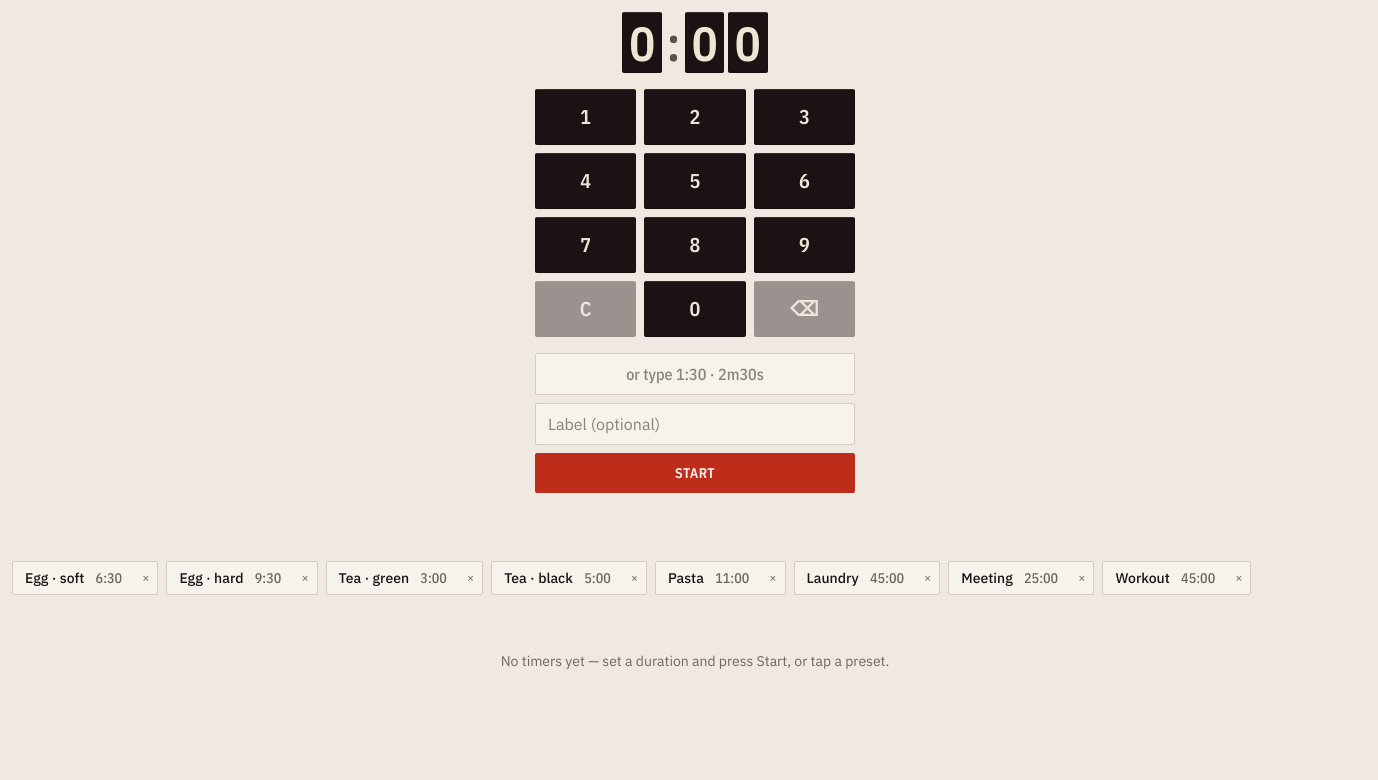
it: CountdownView › shifts digits in from the right, and shows what they mean
Click the button "5". click: (695, 181)
box: x1=644 y1=153 x2=746 y2=209
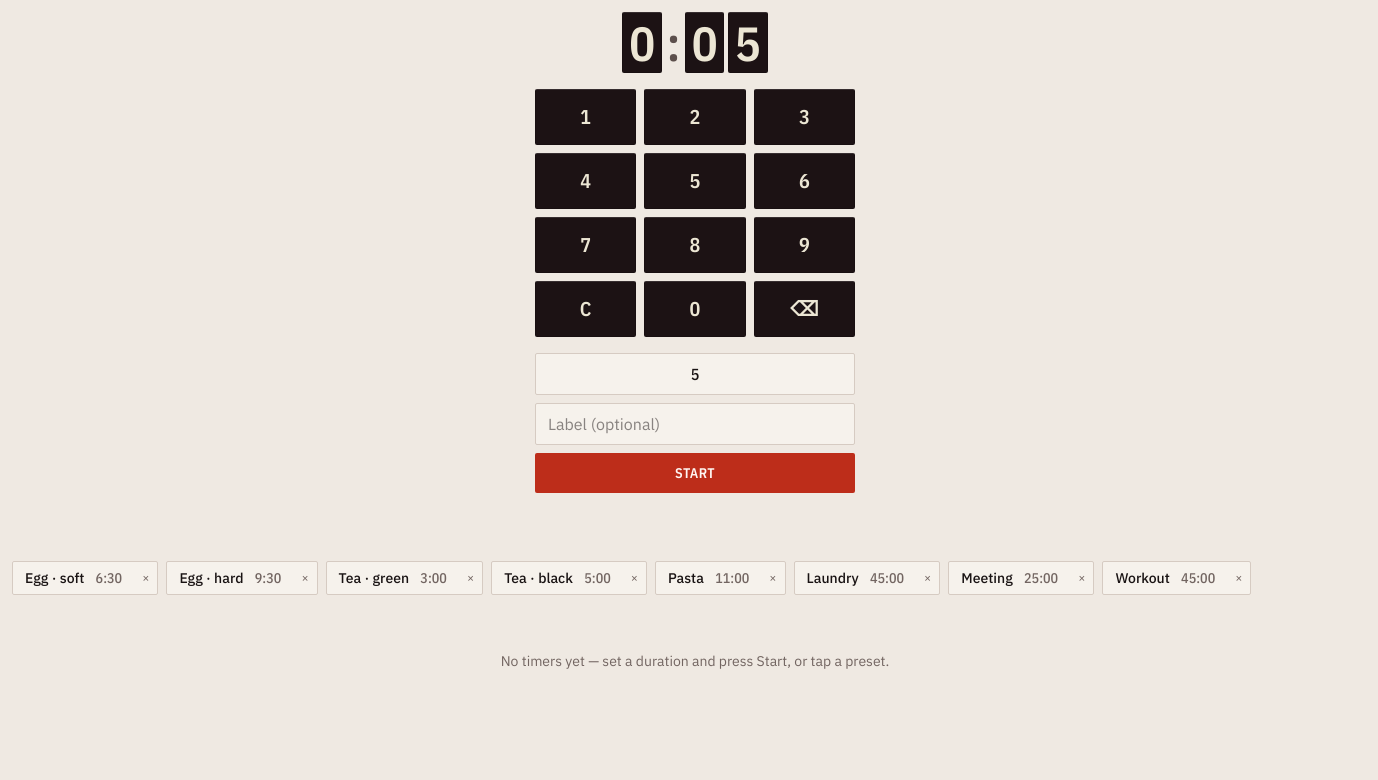
Now the field named "Duration" holds "5", box x1=535 y1=353 x2=855 y2=395
Click the button "2". click: (695, 117)
box: x1=644 y1=89 x2=746 y2=145
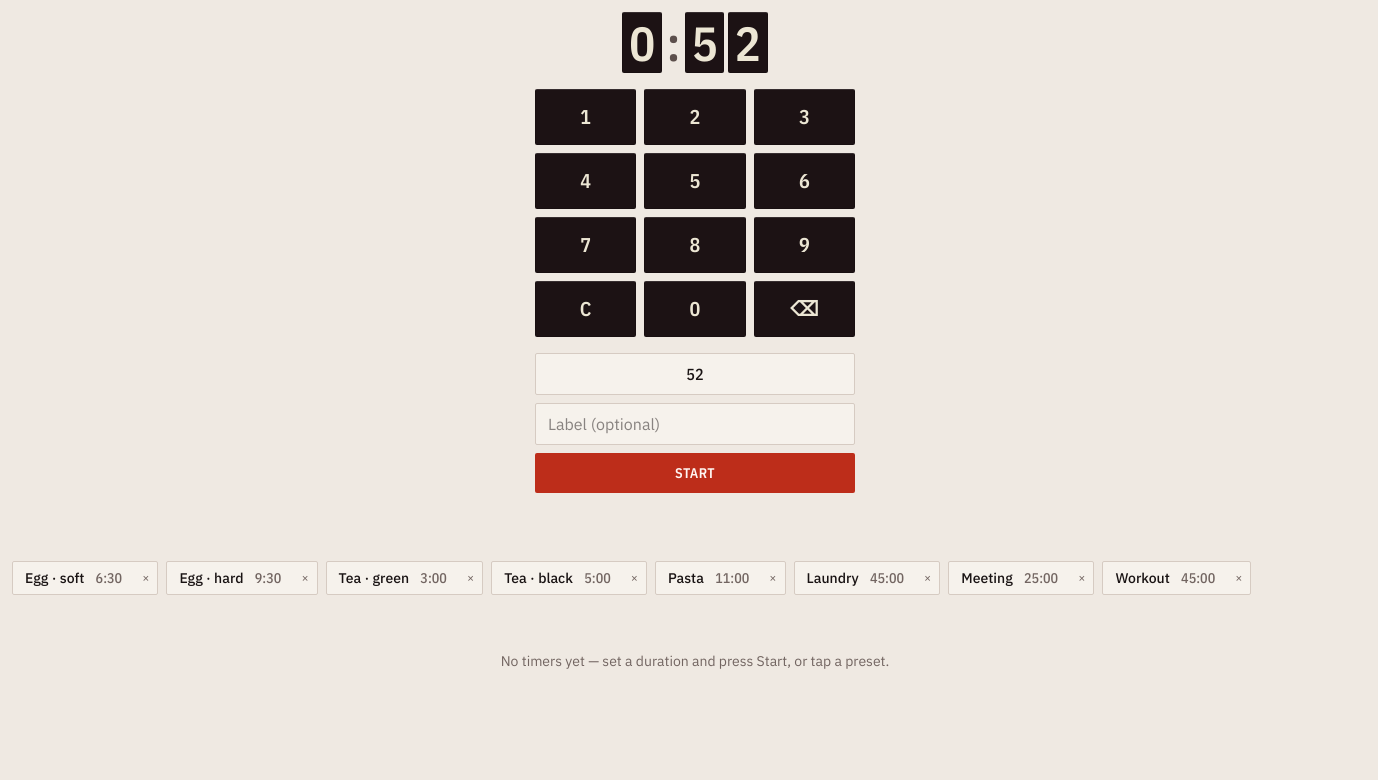
Click the button "3". click: (804, 117)
box: x1=754 y1=89 x2=855 y2=145
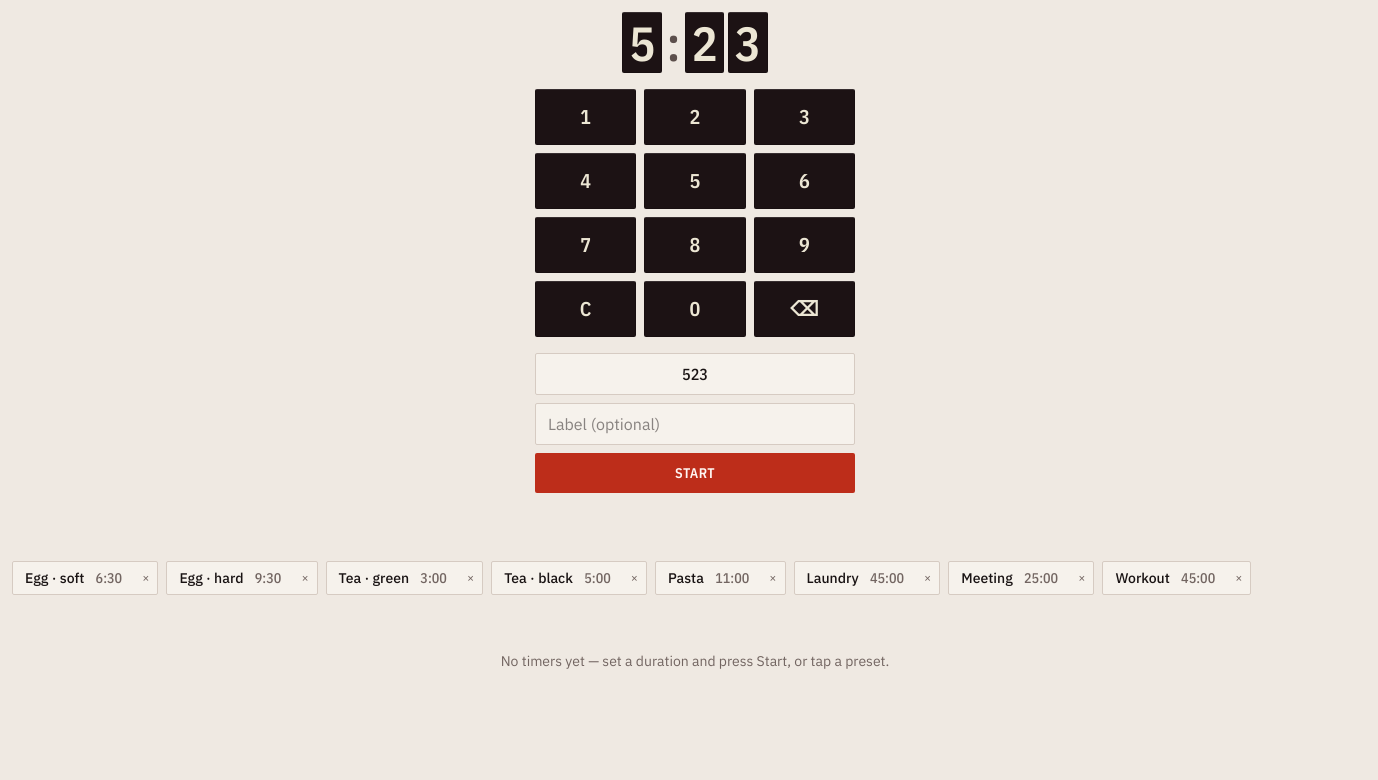
Click the button "0". click: (695, 309)
box: x1=644 y1=281 x2=746 y2=337
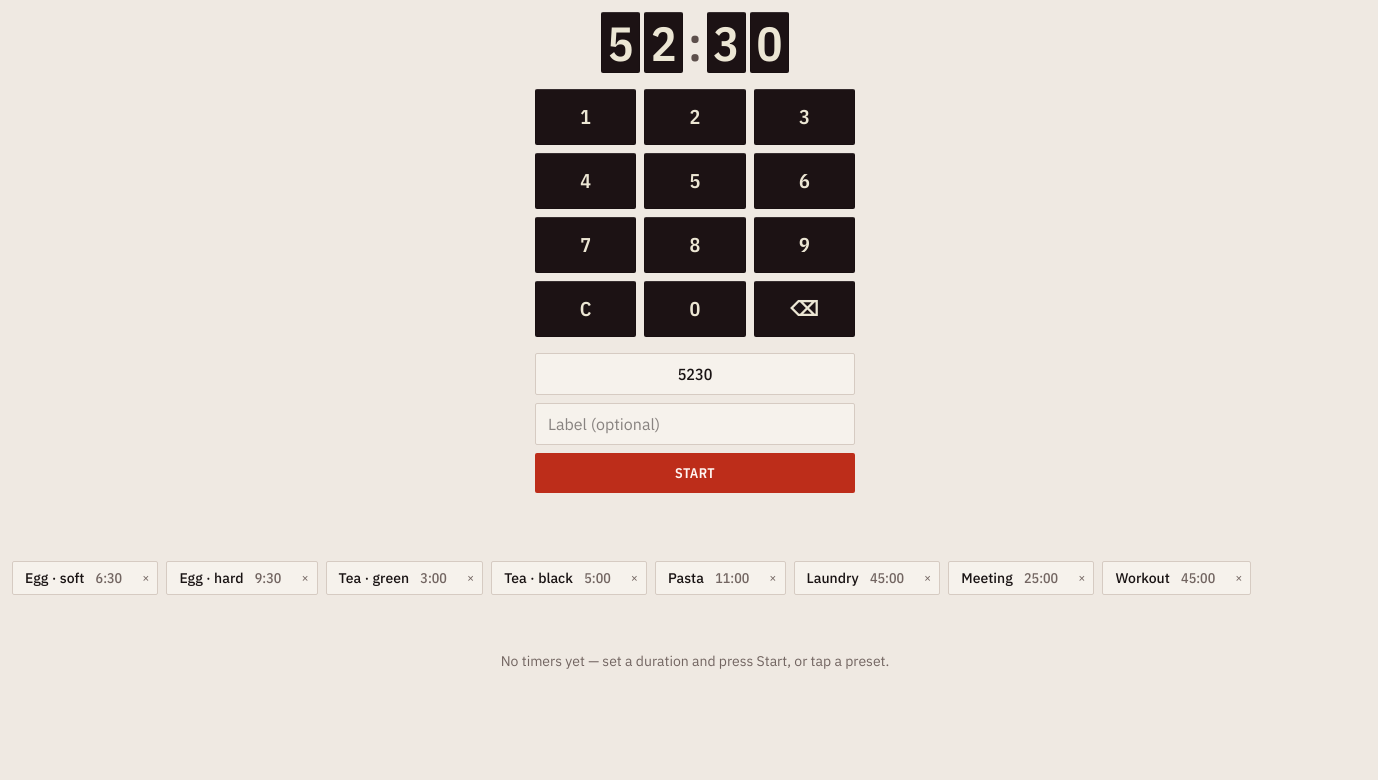
Now the field named "Duration" holds "5230", box x1=535 y1=353 x2=855 y2=395
